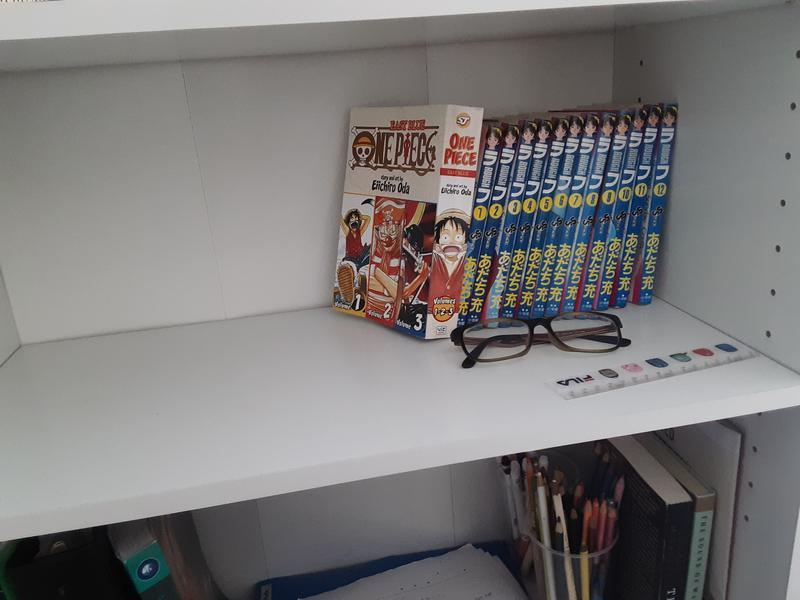glasses: (448, 310, 633, 370)
